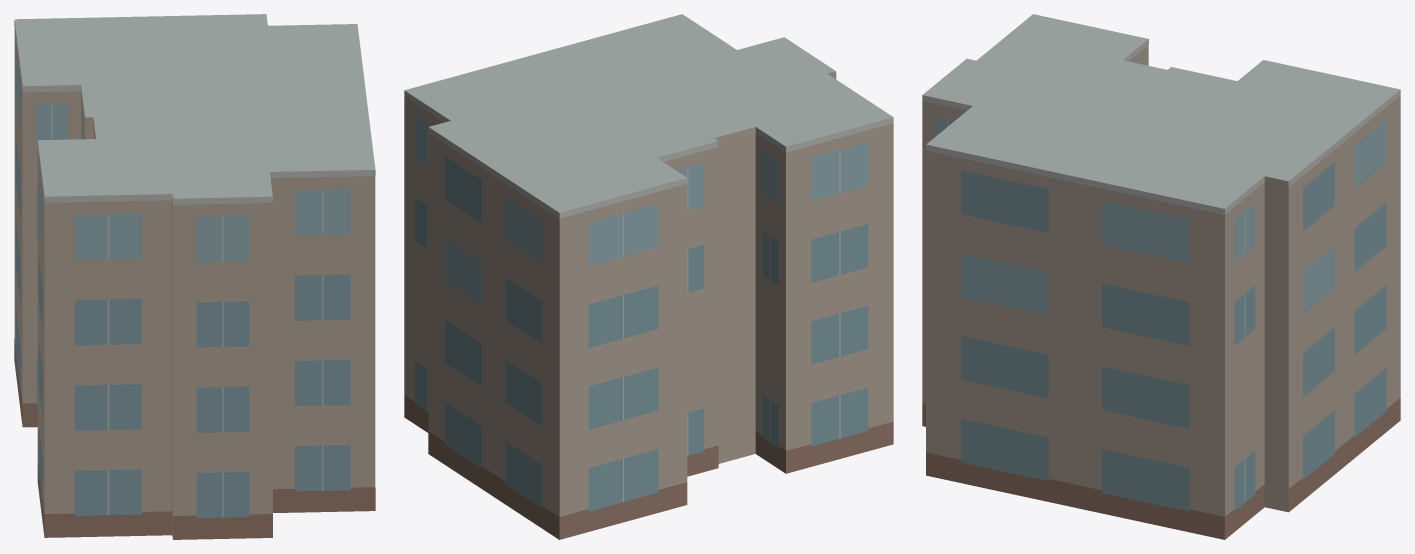
Rendered from survey-upis-32720269.glb.
The picture shows the model from 3 angles, left to right: view 1: azimuth 30°, elevation 25°; view 2: azimuth 150°, elevation 25°; view 3: azimuth 270°, elevation 25°; orthographic projection. The views are drawn at different scales.
Parts seen in each view (by area): view 1: survey-upis-32720269.tmp; view 2: survey-upis-32720269.tmp; view 3: survey-upis-32720269.tmp.
Part boxes in pixels (<box>): survey-upis-32720269.tmp: <box>14,14,375,539</box>; survey-upis-32720269.tmp: <box>404,14,893,539</box>; survey-upis-32720269.tmp: <box>922,14,1400,539</box>.
Size of the model in its own units: 17.06 by 13.5 by 17.69.
